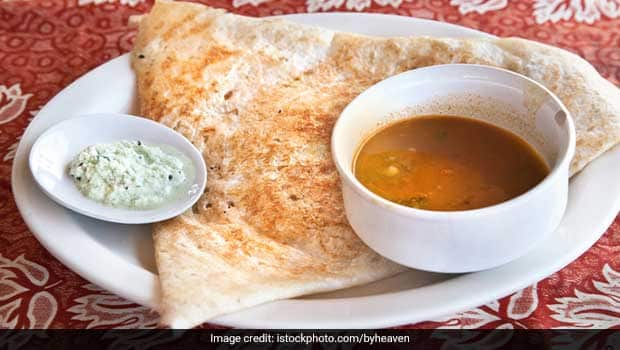dosa: (100, 1, 620, 328)
